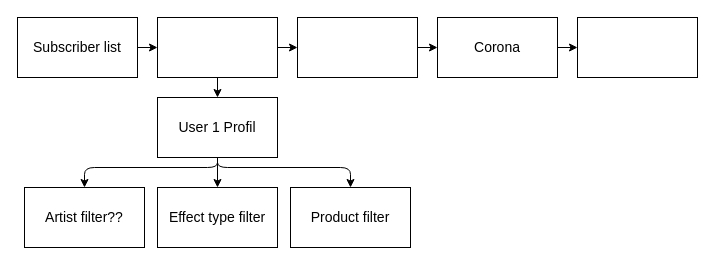
Image size: 715x265. Some labels were removed from this diagram. The centre of each missing label's shape, as x and y in pixels:
Chorus: point (357, 47)
Desired TonePrint: point (637, 47)
User 1: point (217, 47)
